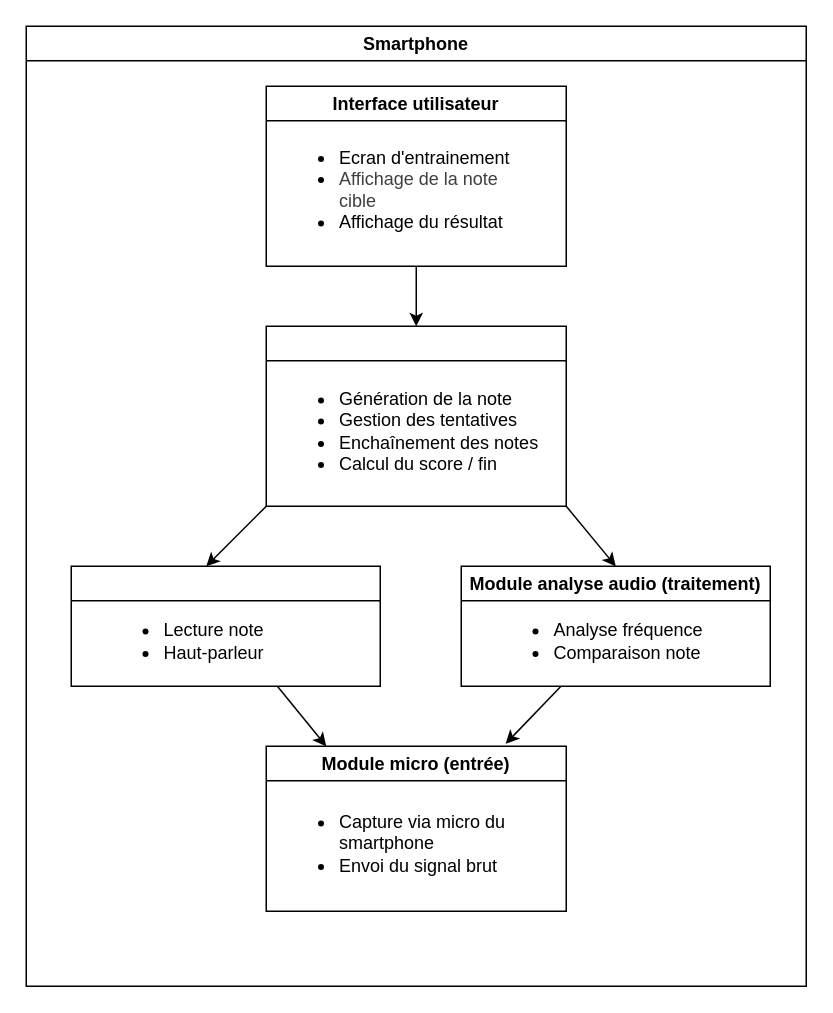
The diagram is 833 pixels wide and 1013 high, and some of its shapes have lost their labels. Each missing label, with the box of its shape:
Logique du jeu: (265, 325, 566, 506)
Module audio (sortie): (70, 565, 380, 686)
